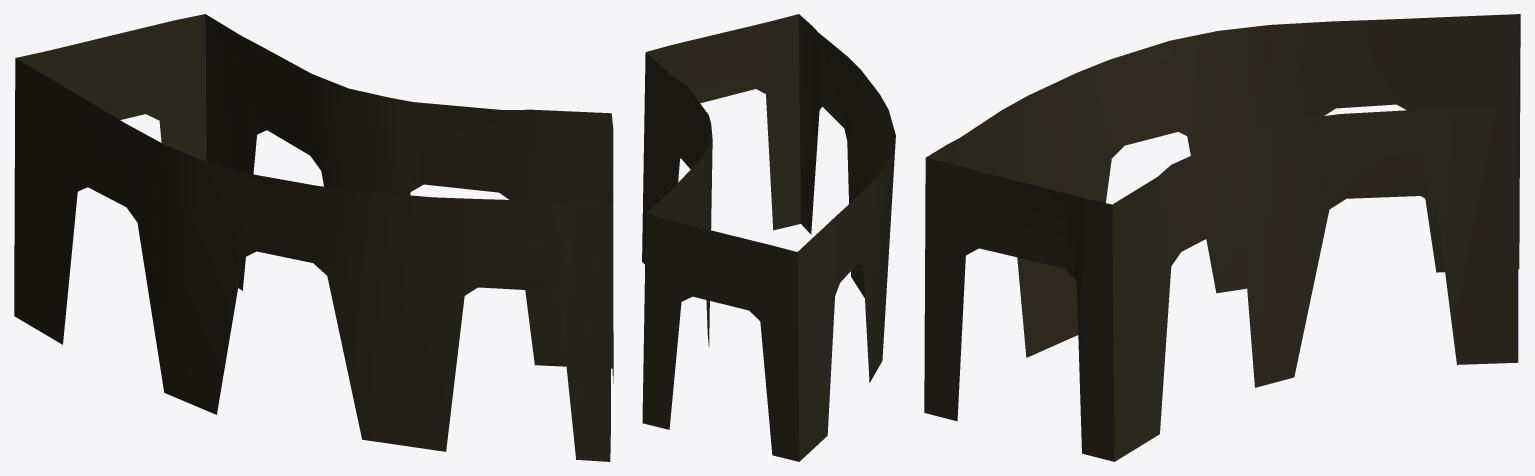
Rendered from Road_Diagonal_Bridge.fbx.
3 renders of one model, left to right at view 1: azimuth 30°, elevation 25°; view 2: azimuth 150°, elevation 25°; view 3: azimuth 270°, elevation 25°, orthographic. The views are drawn at different scales.
Visible parts, largest first — view 1: Road_Diagonal_Bridge; view 2: Road_Diagonal_Bridge; view 3: Road_Diagonal_Bridge.
Boxes of the visible parts, x1=… form: Road_Diagonal_Bridge: x1=14, y1=14, x2=613, y2=461; Road_Diagonal_Bridge: x1=642, y1=14, x2=895, y2=461; Road_Diagonal_Bridge: x1=924, y1=14, x2=1520, y2=461.
Size of the model in its own units: 0.6159 by 0.8066 by 0.3842.
